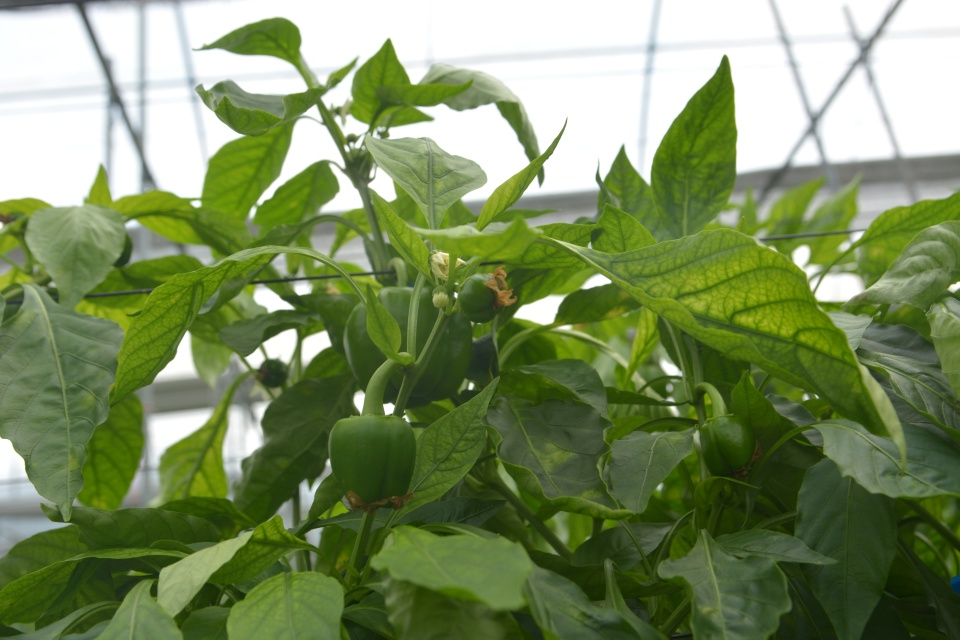flower: (426, 246, 469, 285)
fruit: (341, 283, 477, 410)
immature: (325, 409, 421, 514), (697, 409, 765, 480), (456, 262, 518, 325)
